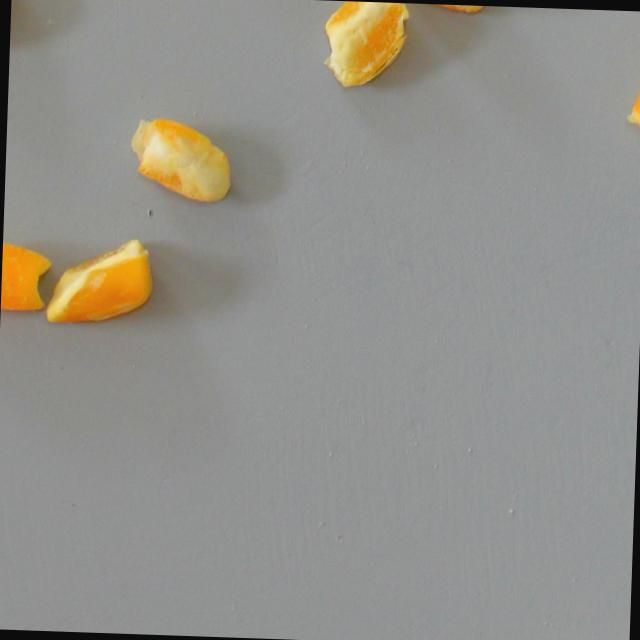pelicula: (46, 233, 155, 324), (130, 116, 236, 204), (319, 0, 410, 90), (0, 236, 52, 316), (624, 47, 640, 152), (395, 2, 491, 14)
